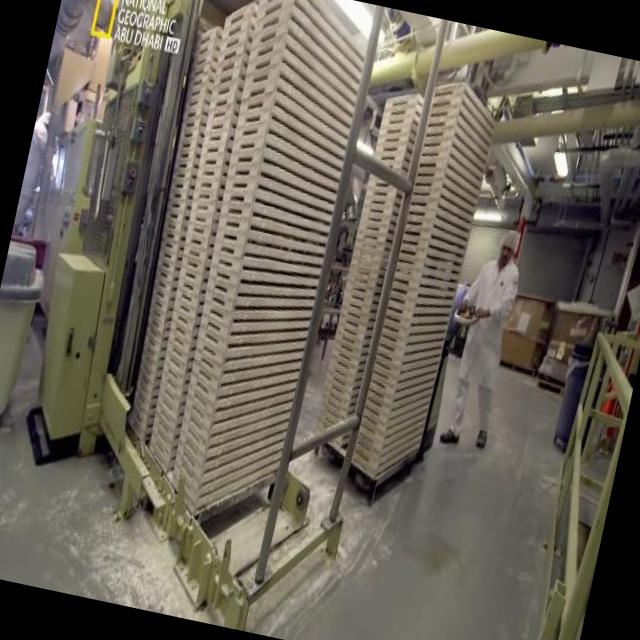hairnet: (498, 228, 523, 255)
